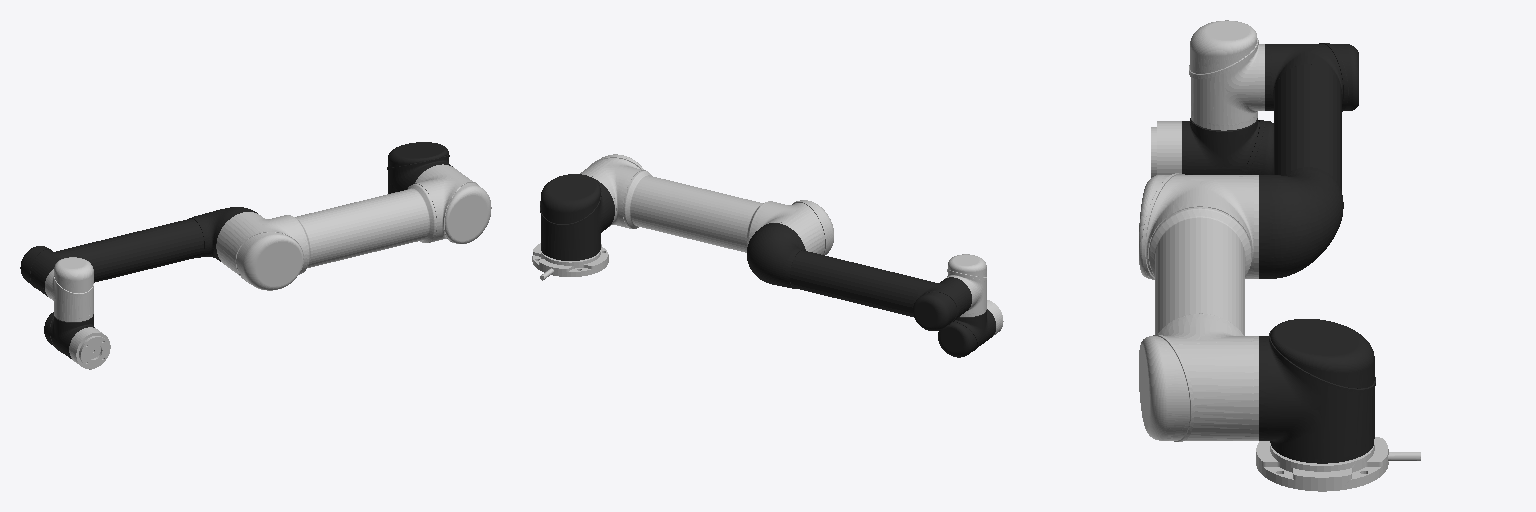
URDF robot description (ur5):
<?xml version="1.0" ?>
<!-- ============================================================================================= -->
<!-- |    This document was autogenerated by xacro from ur_description/urdf/ur5_robot.urdf.xacro | -->
<!-- |    EDITING THIS FILE BY HAND IS NOT RECOMMENDED                                           | -->
<!-- ============================================================================================= -->
<robot name="ur5" xmlns:xacro="http://ros.org/wiki/xacro">
  <material name="LightGrey">
    <color rgba="0.8 0.8 0.8 1.0"/>
  </material>

  <material name="DarkGrey">
    <color rgba="0.2 0.2 0.2 1.0"/>
  </material>

  <link name="base_link">
    <visual>
      <geometry>
        <mesh filename="visual/base.stl"/>
      </geometry>
      <material name="LightGrey"/>
    </visual>
    <!-- <collision>
      <geometry>
      	<mesh filename="collision/base.stl"/>
      </geometry>
    </collision> -->
    <inertial>
      <mass value="4.0"/>
      <origin rpy="0 0 0" xyz="0.0 0.0 0.0"/>
      <inertia ixx="0.00443333156" ixy="0.0" ixz="0.0" iyy="0.00443333156" iyz="0.0" izz="0.0072"/>
    </inertial>
  </link>
  <joint name="shoulder_pan_joint" type="revolute">
    <parent link="base_link"/>
    <child link="shoulder_link"/>
    <origin rpy="0.0 0.0 0.0" xyz="0.0 0.0 0.089159"/>
    <axis xyz="0 0 1"/>
    <limit effort="150.0" lower="-6.28318530718" upper="6.28318530718" velocity="3.15"/>
    <dynamics damping="0.0" friction="0.0"/>
  </joint>
  <link name="shoulder_link">
    <visual>
      <geometry>
        <mesh filename="visual/shoulder.stl"/>
      </geometry>
      <material name="DarkGrey"/>
    </visual>
    <!-- <collision>
      <geometry>
        <mesh filename="collision/shoulder.stl"/>
      </geometry>
    </collision> -->
    <inertial>
      <mass value="3.7"/>
      <origin rpy="0 0 0" xyz="0.0 0.0 0.0"/>
      <inertia ixx="0.010267495893" ixy="0.0" ixz="0.0" iyy="0.010267495893" iyz="0.0" izz="0.00666"/>
    </inertial>
  </link>
  <joint name="shoulder_lift_joint" type="revolute">
    <parent link="shoulder_link"/>
    <child link="upper_arm_link"/>
    <origin rpy="0.0 1.57079632679 0.0" xyz="0.0 0.13585 0.0"/>
    <axis xyz="0 1 0"/>
    <limit effort="150.0" lower="-6.28318530718" upper="6.28318530718" velocity="3.15"/>
    <dynamics damping="0.0" friction="0.0"/>
  </joint>
  <link name="upper_arm_link">
    <visual>
      <geometry>
        <mesh filename="visual/upperarm.stl"/>
      </geometry>
      <material name="LightGrey"/>
    </visual>
    <!-- <collision>
      <geometry>
        <mesh filename="collision/upperarm.stl"/>
      </geometry>
    </collision> -->
    <inertial>
      <mass value="8.393"/>
      <origin rpy="0 0 0" xyz="0.0 0.0 0.28"/>
      <inertia ixx="0.22689067591" ixy="0.0" ixz="0.0" iyy="0.22689067591" iyz="0.0" izz="0.0151074"/>
    </inertial>
  </link>
  <joint name="elbow_joint" type="revolute">
    <parent link="upper_arm_link"/>
    <child link="forearm_link"/>
    <origin rpy="0.0 0.0 0.0" xyz="0.0 -0.1197 0.425"/>
    <axis xyz="0 1 0"/>
    <limit effort="150.0" lower="-3.14159265359" upper="3.14159265359" velocity="3.15"/>
    <dynamics damping="0.0" friction="0.0"/>
  </joint>
  <link name="forearm_link">
    <visual>
      <geometry>
        <mesh filename="visual/forearm.stl"/>
      </geometry>
      <material name="DarkGrey"/>
    </visual>
    <!-- <collision>
      <geometry>
        <mesh filename="collision/forearm.stl"/>
      </geometry>
    </collision> -->
    <inertial>
      <mass value="2.275"/>
      <origin rpy="0 0 0" xyz="0.0 0.0 0.25"/>
      <inertia ixx="0.049443313556" ixy="0.0" ixz="0.0" iyy="0.049443313556" iyz="0.0" izz="0.004095"/>
    </inertial>
  </link>
  <joint name="wrist_1_joint" type="revolute">
    <parent link="forearm_link"/>
    <child link="wrist_1_link"/>
    <origin rpy="0.0 1.57079632679 0.0" xyz="0.0 0.0 0.39225"/>
    <axis xyz="0 1 0"/>
    <limit effort="28.0" lower="-6.28318530718" upper="6.28318530718" velocity="3.2"/>
    <dynamics damping="0.0" friction="0.0"/>
  </joint>
  <link name="wrist_1_link">
    <visual>
      <geometry>
        <mesh filename="visual/wrist1.stl"/>
      </geometry>
      <material name="LightGrey"/>
    </visual>
    <!-- <collision>
      <geometry>
        <mesh filename="collision/wrist1.stl"/>
      </geometry>
    </collision> -->
    <inertial>
      <mass value="1.219"/>
      <origin rpy="0 0 0" xyz="0.0 0.0 0.0"/>
      <inertia ixx="0.111172755531" ixy="0.0" ixz="0.0" iyy="0.111172755531" iyz="0.0" izz="0.21942"/>
    </inertial>
  </link>
  <joint name="wrist_2_joint" type="revolute">
    <parent link="wrist_1_link"/>
    <child link="wrist_2_link"/>
    <origin rpy="0.0 0.0 0.0" xyz="0.0 0.093 0.0"/>
    <axis xyz="0 0 1"/>
    <limit effort="28.0" lower="-6.28318530718" upper="6.28318530718" velocity="3.2"/>
    <dynamics damping="0.0" friction="0.0"/>
  </joint>
  <link name="wrist_2_link">
    <visual>
      <geometry>
        <mesh filename="visual/wrist2.stl"/>
      </geometry>
      <material name="DarkGrey"/>
    </visual>
    <!-- <collision>
      <geometry>
        <mesh filename="collision/wrist2.stl"/>
      </geometry>
    </collision> -->
    <inertial>
      <mass value="1.219"/>
      <origin rpy="0 0 0" xyz="0.0 0.0 0.0"/>
      <inertia ixx="0.111172755531" ixy="0.0" ixz="0.0" iyy="0.111172755531" iyz="0.0" izz="0.21942"/>
    </inertial>
  </link>
  <joint name="wrist_3_joint" type="revolute">
    <parent link="wrist_2_link"/>
    <child link="wrist_3_link"/>
    <origin rpy="0.0 0.0 0.0" xyz="0.0 0.0 0.09465"/>
    <axis xyz="0 1 0"/>
    <limit effort="28.0" lower="-6.28318530718" upper="6.28318530718" velocity="3.2"/>
    <dynamics damping="0.0" friction="0.0"/>
  </joint>
  <link name="wrist_3_link">
    <visual>
      <geometry>
        <mesh filename="visual/wrist3.stl"/>
      </geometry>
      <material name="LightGrey"/>
    </visual>
    <collision>
      <geometry>
        <mesh filename="collision/wrist3.stl"/>
      </geometry>
    </collision>
    <inertial>
      <mass value="0.1879"/>
      <origin rpy="0 0 0" xyz="0.0 0.0 0.0"/>
      <inertia ixx="0.0171364731454" ixy="0.0" ixz="0.0" iyy="0.0171364731454" iyz="0.0" izz="0.033822"/>
    </inertial>
  </link>
  <joint name="ee_fixed_joint" type="fixed">
    <parent link="wrist_3_link"/>
    <child link="ee_link"/>
    <origin rpy="-1.5707963267948966 0.0 0.0" xyz="0.0 0.0823 0.0"/>
  </joint>
  <link name="ee_link">
    <!-- <collision>
      <geometry>
        <box size="0.01 0.01 0.01"/>
      </geometry>
      <origin rpy="0 0 0" xyz="-0.01 0 0"/>
    </collision> -->
    <inertial>
      <mass value="0.0"/>
      <origin rpy="0 0 0" xyz="0.0 0.0 0.0"/>
      <inertia ixx="0.0" ixy="0.0" ixz="0.0" iyy="0.0" iyz="0.0" izz="0.0"/>
    </inertial>
  </link>
  <!-- nothing to do here at the moment -->
  <!-- ROS base_link to UR 'Base' Coordinates transform -->
  <link name="base">
    <inertial>
      <mass value="0.0"/>
      <origin rpy="0 0 0" xyz="0.0 0.0 0.0"/>
      <inertia ixx="0.0" ixy="0.0" ixz="0.0" iyy="0.0" iyz="0.0" izz="0.0"/>
    </inertial>
  </link>
  <joint name="base_link-base_fixed_joint" type="fixed">
    <!-- NOTE: this rotation is only needed as long as base_link itself is
                 not corrected wrt the real robot (ie: rotated over 180
                 degrees)
      -->
    <origin rpy="0 0 -3.14159265359" xyz="0 0 0"/>
    <parent link="base_link"/>
    <child link="base"/>
  </joint>
  <!-- Frame coincident with all-zeros TCP on UR controller -->
  <link name="tool0">
    <inertial>
      <mass value="0.0"/>
      <origin rpy="0 0 0" xyz="0.0 0.0 0.0"/>
      <inertia ixx="0.0" ixy="0.0" ixz="0.0" iyy="0.0" iyz="0.0" izz="0.0"/>
    </inertial>
  </link>
  <joint name="wrist_3_link-tool0_fixed_joint" type="fixed">
    <origin rpy="-1.57079632679 0 0" xyz="0 0.0823 0"/>
    <parent link="wrist_3_link"/>
    <child link="tool0"/>
  </joint>

  <link name="tool_tip">
    <inertial>
      <mass value="0.0"/>
      <origin rpy="3.14159265359 0 -1.57079632679" xyz="0.0 0.0 0.0"/>
      <inertia ixx="0.0" ixy="0.0" ixz="0.0" iyy="0.0" iyz="0.0" izz="0.0"/>
    </inertial>
    <!-- <visual>
      <geometry>
        <box size="0.01 0.01 0.01"/>
      </geometry>
      <origin rpy="0 0 0" xyz="0 0 0"/>
    </visual> -->
  </link>
  <joint name="tool0-tool_tip" type="fixed">
    <origin rpy="0 0 0" xyz="0 0 0.12"/>
    <parent link="tool0"/>
    <child link="tool_tip"/>
  </joint>

  <link name="world"/>
  <joint name="world_joint" type="fixed">
    <parent link="world"/>
    <child link="rotated_base_link"/>
    <origin rpy="0.0 0.0 0.0" xyz="0.0 0.0 0.0"/>
  </joint>

  <link name="rotated_base_link">
    <inertial>
      <mass value="0.0"/>
      <origin rpy="0 0 0" xyz="0.0 0.0 0.0"/>
      <inertia ixx="0.0" ixy="0.0" ixz="0.0" iyy="0.0" iyz="0.0" izz="0.0"/>
    </inertial>
  </link>>

  <joint name="rotated_base-base_fixed_joint" type="fixed">
    <origin xyz="0.0 0.0 0.0" rpy="0.0 0.0 3.141592653589793"/>
    <parent link="rotated_base_link"/>
    <child link="base_link"/>
  </joint>
</robot>

--- Facts derived from the render (not from the file) ---
Views: 3 orthographic renders of the robot side by side, from view 1: azimuth 30°, elevation 25°; view 2: azimuth 150°, elevation 25°; view 3: azimuth 270°, elevation 25°.
Model ur5 with 13 links and 12 joints (6 revolute, 6 fixed), rooted at world, posed all joints at 0.
Visible links, largest first — view 1: upper_arm_link, forearm_link, wrist_1_link, shoulder_link, wrist_3_link, wrist_2_link; view 2: upper_arm_link, forearm_link, shoulder_link, wrist_2_link, wrist_1_link, base_link; view 3: upper_arm_link, forearm_link, shoulder_link, wrist_1_link, wrist_2_link, base_link, wrist_3_link.
Link boxes in pixels (x1,y1,x2,y2): upper_arm_link: [216, 164, 491, 290]; forearm_link: [20, 207, 257, 296]; wrist_1_link: [45, 257, 93, 321]; shoulder_link: [387, 142, 452, 193]; wrist_3_link: [69, 327, 110, 369]; wrist_2_link: [44, 312, 94, 358]; upper_arm_link: [580, 154, 833, 254]; forearm_link: [747, 223, 971, 330]; shoulder_link: [540, 174, 614, 260]; wrist_2_link: [938, 309, 995, 357]; wrist_1_link: [945, 254, 986, 316]; base_link: [532, 243, 608, 280]; upper_arm_link: [1139, 173, 1258, 441]; forearm_link: [1259, 43, 1358, 278]; shoulder_link: [1259, 319, 1375, 463]; wrist_1_link: [1189, 20, 1264, 130]; wrist_2_link: [1182, 118, 1273, 174]; base_link: [1256, 437, 1420, 491]; wrist_3_link: [1151, 121, 1181, 177].
Size in the robot's own frame: 0.9295 by 0.3144 by 0.2062 metres.
Meshes: 7 distinct files referenced, 7 mesh visuals loaded (7 binary STL).